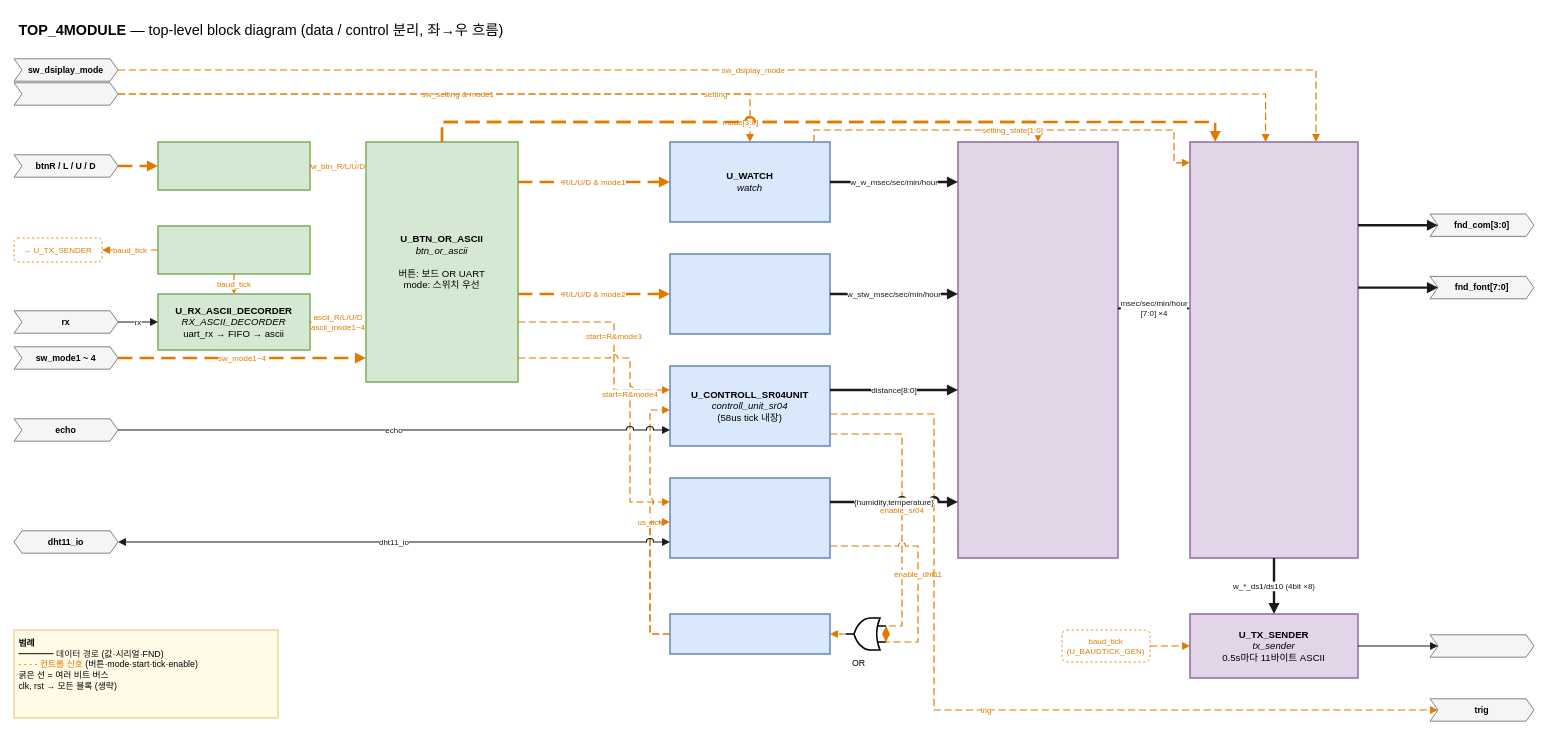
This 1548x735 diagram has some shape labels left out. The shapes that lost their labels are listed below. From the top down, each one's centre as x and y in pixels, then its label:
the point at 65,93: sw_setting
the point at 233,165: U_BTN_DEBOUNCE_BLOCK btn_debouce_block
the point at 233,249: U_BAUDTICK_GEN baud_tick_gen_datastate 9600×16
the point at 749,293: U_STOPWATCH stopwatch
the point at 1037,349: U_FND_MODE_MUX fnd_mode_mux mode로 4개 소스 중 선택 (거리·습온도 → d / H / t)
the point at 1273,349: U_FND_CONTROLLER fnd_controller 자리 분리 → 설정 깜빡임 → 800Hz 스캔 → BCD
the point at 749,517: U_DHT11_CONTROLLER dht11_controller
the point at 749,633: U_TICK_GEN_US tick_gen_us_sr04 (1us)
the point at 1481,645: tx
